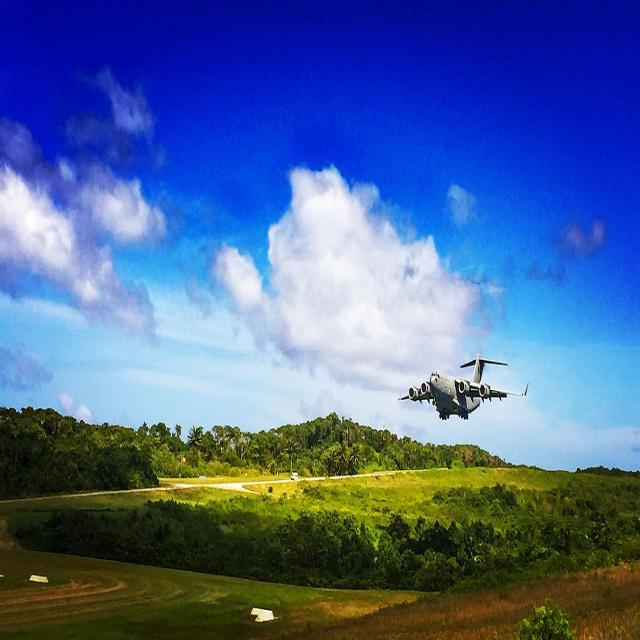MIL_Plane: (13, 353, 145, 421)
